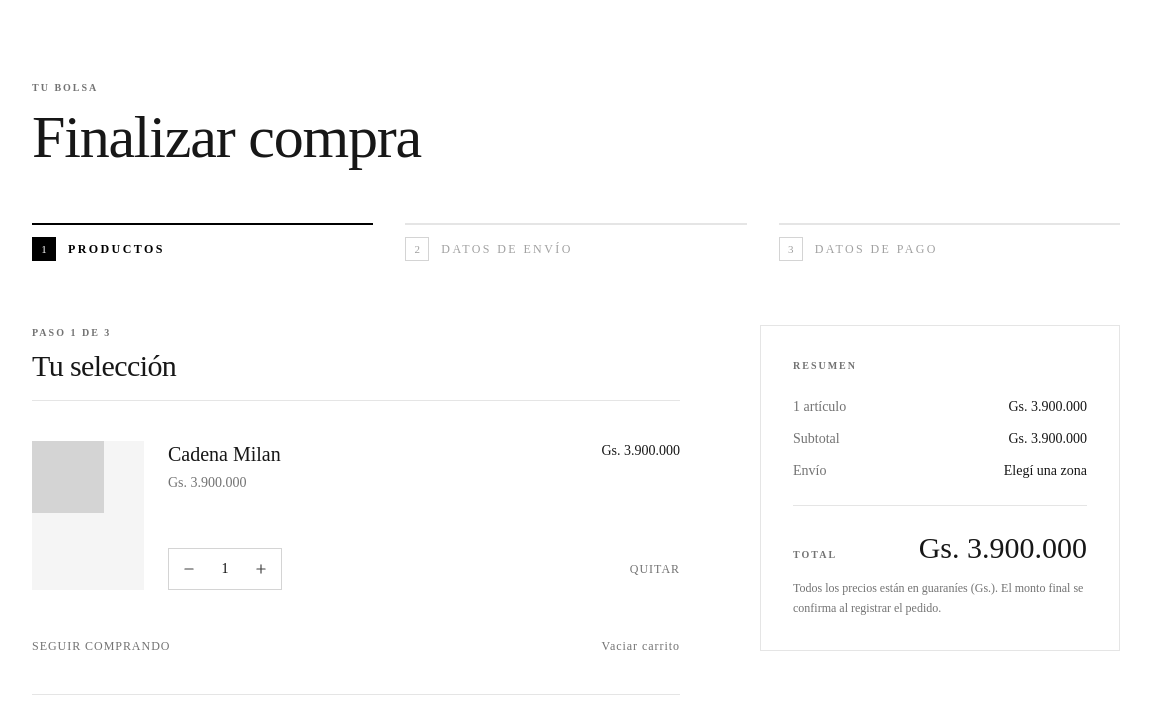
Test case: CheckoutFlow: step 1 (products) › removes one unit and the empty cart view appears when it reaches zero
expect the heading "Finalizar compra" is shown: met, box [32,104,421,170]
Click the button named "Quitar una unidad de Cadena Milan". click: (189, 569)
box: [169,549,209,589]
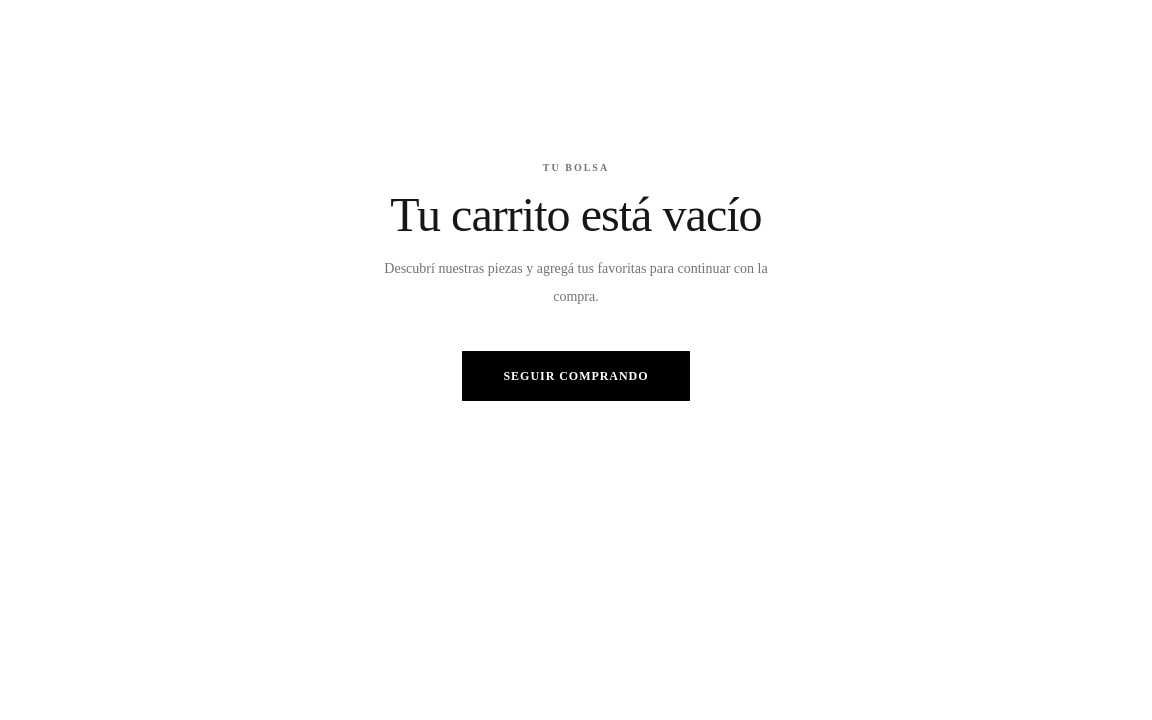
expect the heading "Tu carrito está vacío" is shown: met, box [390,191,762,239]
